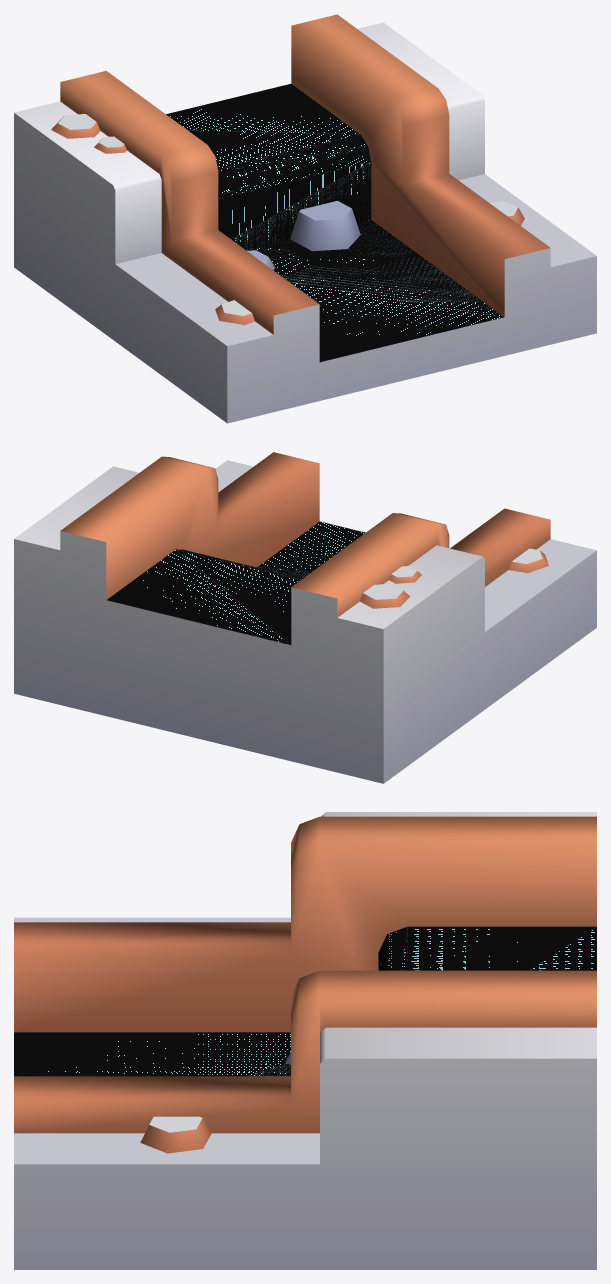
File: kenney-tower-defense-snow-tile-river-waterfall.glb
3 renders of one model, top to bottom at view 1: azimuth 30°, elevation 25°; view 2: azimuth 150°, elevation 25°; view 3: azimuth 270°, elevation 25°, orthographic. The views are drawn at different scales.
Parts seen in each view (by area): view 1: snow-tile-river-waterfall; view 2: snow-tile-river-waterfall; view 3: snow-tile-river-waterfall.
Part boxes in pixels (x1=…): snow-tile-river-waterfall: x1=14, y1=14, x2=596, y2=423; snow-tile-river-waterfall: x1=14, y1=452, x2=596, y2=783; snow-tile-river-waterfall: x1=14, y1=812, x2=596, y2=1269.
Bounding box in the file's own units: 1 × 0.45 × 1.
Materials: 1 (1 with a texture image).
